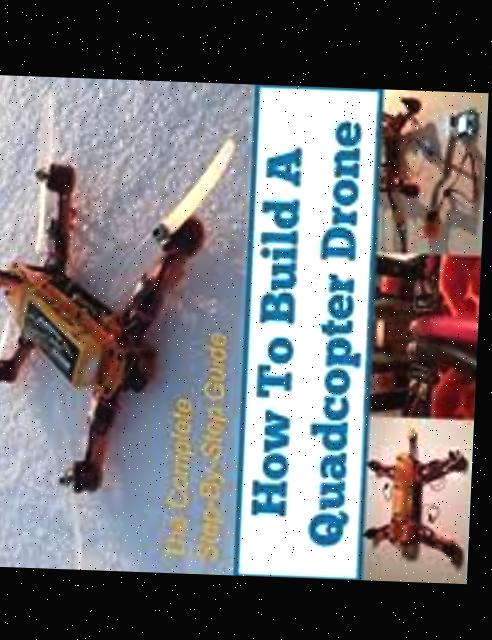drone: (0, 119, 245, 517), (366, 424, 477, 565)
